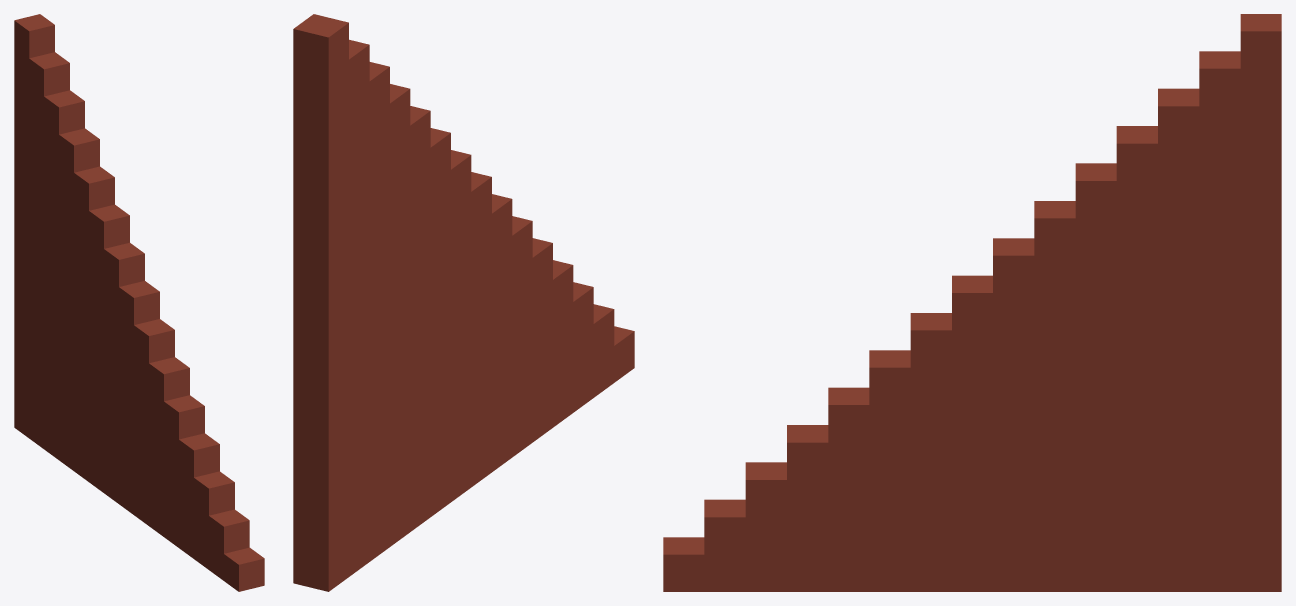
The model's file is ConstructionMaterials-23.obj.
3 renders of one model, left to right at view 1: azimuth 30°, elevation 25°; view 2: azimuth 150°, elevation 25°; view 3: azimuth 270°, elevation 25°, orthographic. The views are drawn at different scales.
Bounding box in the file's own units: 0.1 × 1.5 × 1.5.
Materials: 1 (1 with a texture image).
